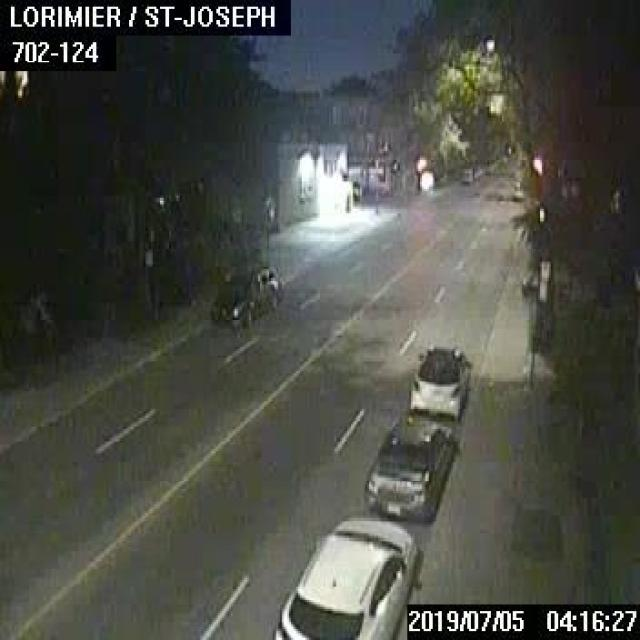vehicle: (271, 516, 420, 638), (362, 414, 458, 521), (408, 342, 469, 418), (210, 263, 278, 325)
